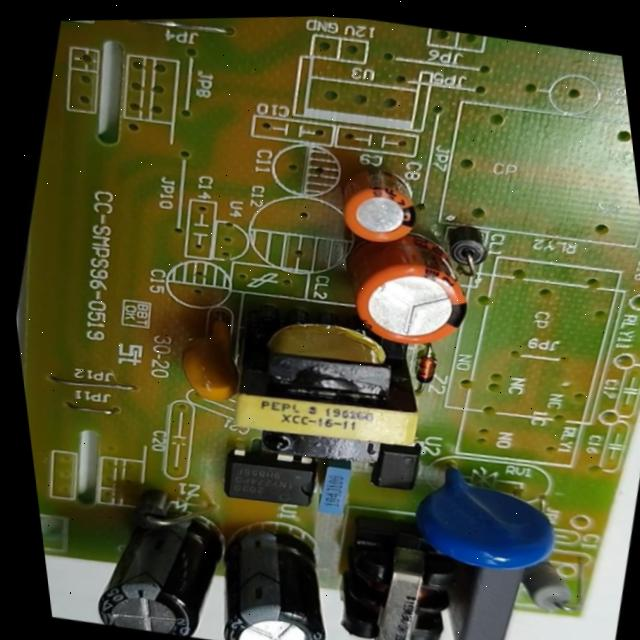Cap1: (330, 213, 498, 366)
Cap2: (321, 151, 436, 260)
Cap3: (189, 504, 358, 640)
Cap4: (75, 486, 239, 640)
MOSFET: (210, 434, 334, 522)
Mov: (393, 445, 583, 599)
Resistor: (511, 556, 587, 626)
Transformer: (199, 274, 459, 495), (310, 500, 487, 640)
